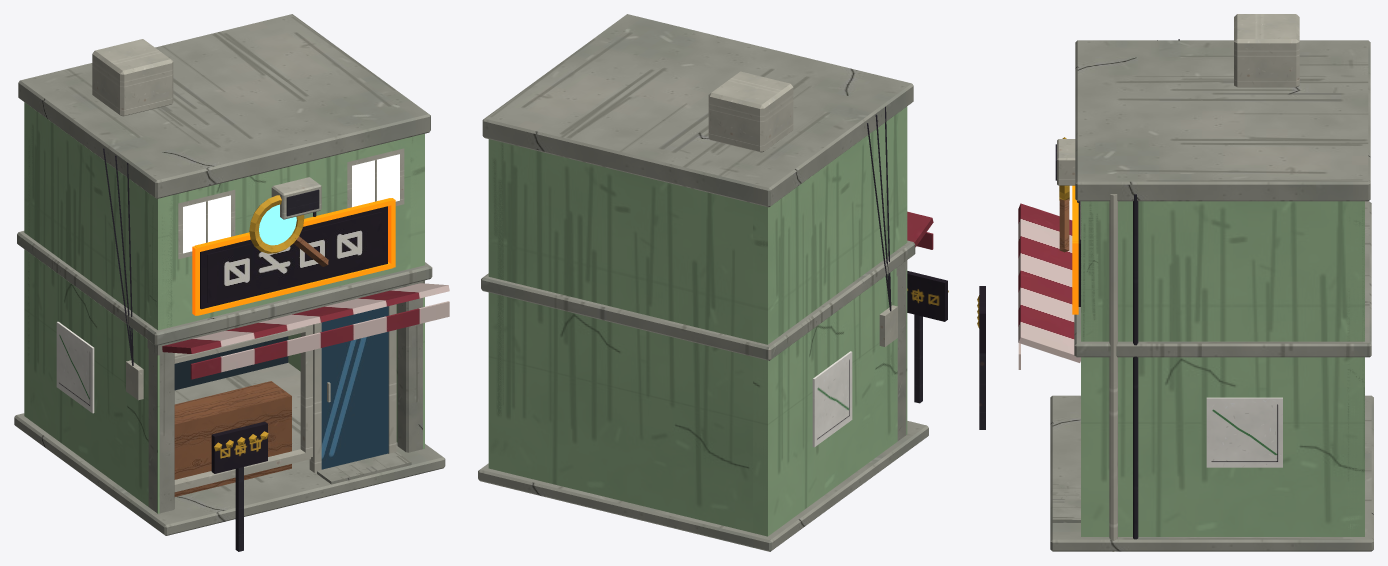
The model's file is servico_google.glb.
3 views of the same model, side by side, from view 1: azimuth 30°, elevation 25°; view 2: azimuth 150°, elevation 25°; view 3: azimuth 270°, elevation 25° (orthographic). The views are drawn at different scales.
Visible parts, largest first — view 1: servico_google; view 2: servico_google; view 3: servico_google.
Boxes of the visible parts, box(x1,y1,x2,y2) form: servico_google: box(14, 14, 449, 551); servico_google: box(478, 14, 948, 551); servico_google: box(977, 14, 1373, 551).
Size of the model in its own units: 3.18 by 4.2 by 3.63.
Materials: 5 (2 with a texture image).
